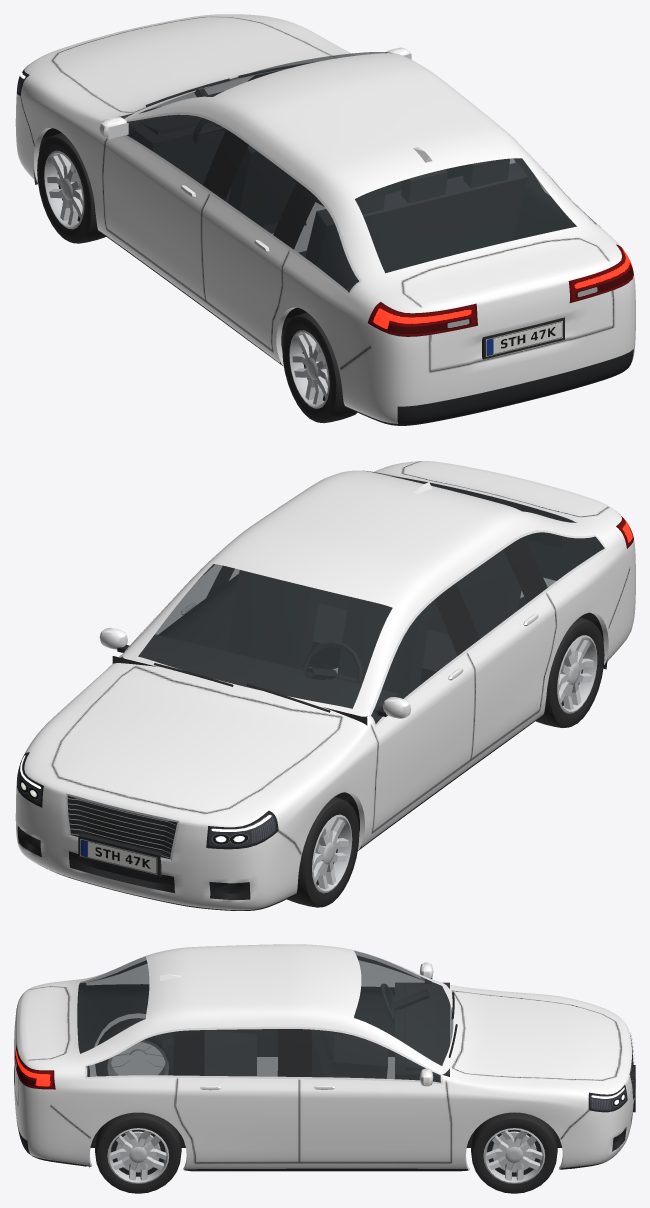
The model's file is car_sedan.glb.
3 views of the same model, one above another, from view 1: azimuth 30°, elevation 25°; view 2: azimuth 150°, elevation 25°; view 3: azimuth 270°, elevation 25° (orthographic). The views are drawn at different scales.
Visible parts, largest first — view 1: body, wheel_rl, wheel_fl; view 2: body, wheel_fl, wheel_rl; view 3: body, wheel_fr, wheel_rr, wheel_rl.
Part boxes in pixels (x1,y1,x2,y2): body: [15, 14, 635, 425]; wheel_rl: [282, 312, 357, 423]; wheel_fl: [37, 132, 105, 243]; body: [15, 461, 635, 910]; wheel_fl: [287, 796, 359, 907]; wheel_rl: [536, 617, 604, 727]; body: [14, 944, 635, 1171]; wheel_fr: [471, 1112, 557, 1193]; wheel_rr: [95, 1112, 181, 1193]; wheel_rl: [95, 1018, 172, 1075].
Bounding box in the file's own units: 2.08 × 1.45 × 4.75.
10 materials, 4 textured.
